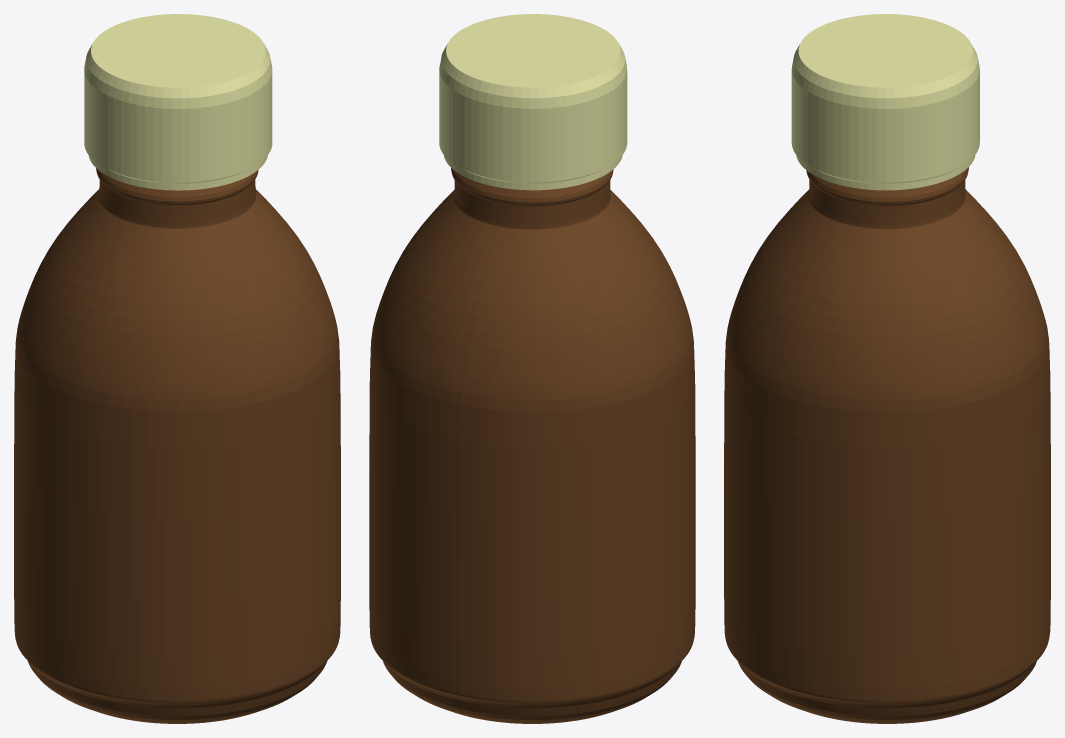
The model's file is bottleGlass.fbx.
3 views of the same model, side by side, from view 1: azimuth 30°, elevation 25°; view 2: azimuth 150°, elevation 25°; view 3: azimuth 270°, elevation 25° (orthographic).
Visible parts, largest first — view 1: Cube.003, Plane.001; view 2: Cube.003, Plane.001; view 3: Cube.003, Plane.001.
Part boxes in pixels (left/top/right/bottom): Cube.003: left=14, top=168, right=340, bottom=723; Plane.001: left=84, top=14, right=272, bottom=190; Cube.003: left=369, top=168, right=695, bottom=723; Plane.001: left=439, top=14, right=627, bottom=190; Cube.003: left=724, top=167, right=1050, bottom=723; Plane.001: left=791, top=14, right=979, bottom=190.
Size of the model in its own units: 20.47 by 43.75 by 20.49.
